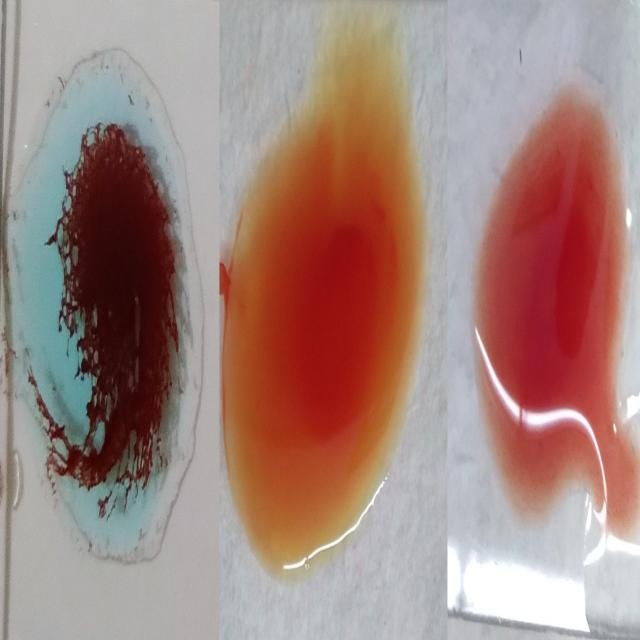A: (8, 50, 206, 573)
